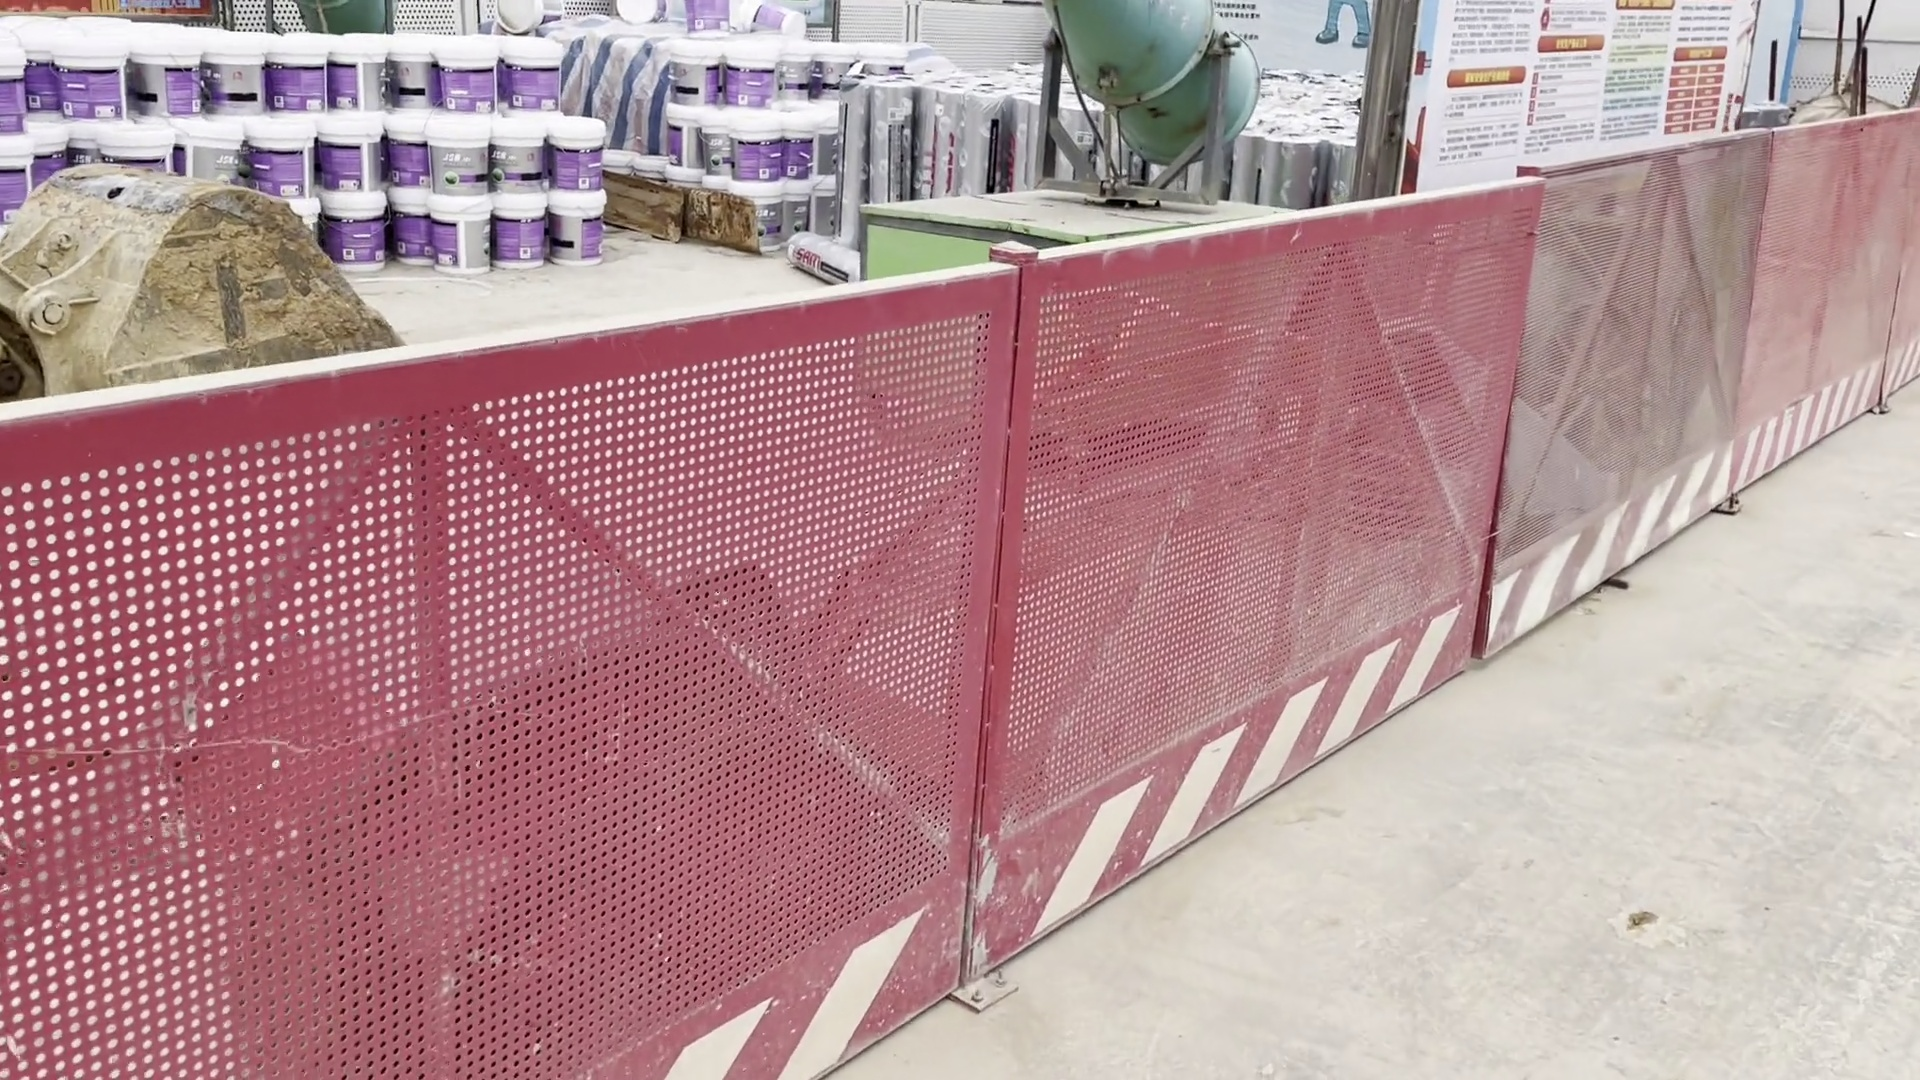fence: (32, 109, 1920, 1073)
